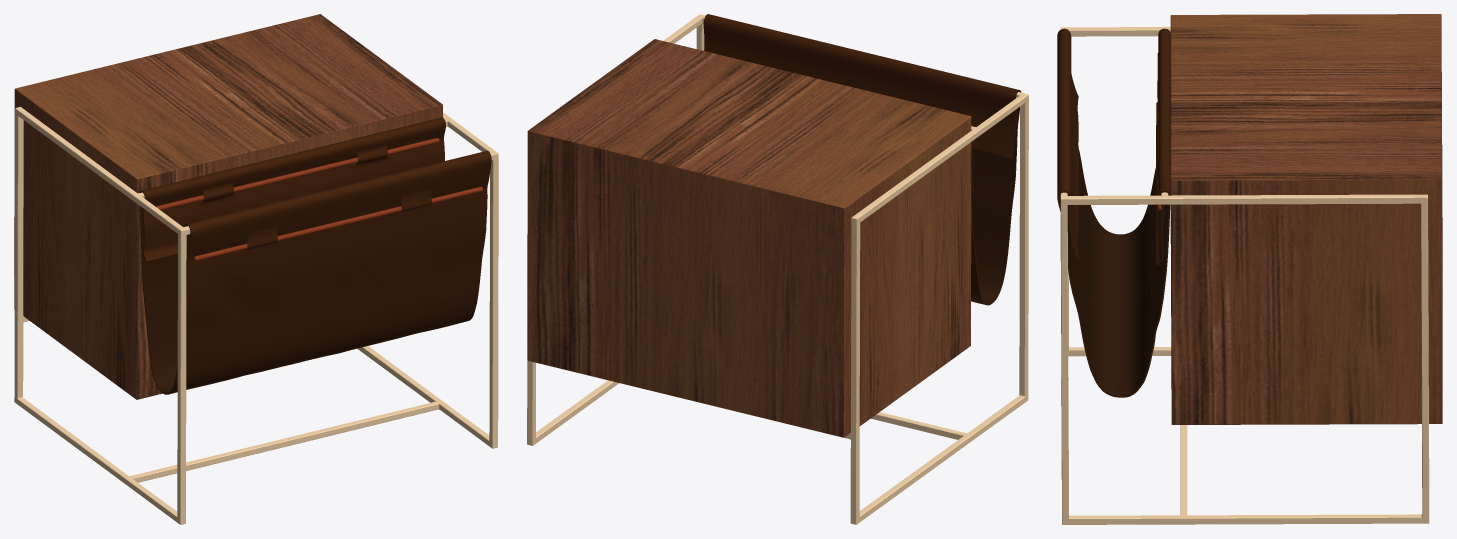
Rendered from Rvst.gltf.
The picture shows the model from 3 angles, left to right: view 1: azimuth 30°, elevation 25°; view 2: azimuth 150°, elevation 25°; view 3: azimuth 270°, elevation 25°; orthographic projection. The views are drawn at different scales.
Parts seen in each view (by area): view 1: WayDesign_Brick_mat(1)_WayDesign_Brick_mat1_mtl_4_0_0; view 2: WayDesign_Brick_mat(1)_WayDesign_Brick_mat1_mtl_4_0_0; view 3: WayDesign_Brick_mat(1)_WayDesign_Brick_mat1_mtl_4_0_0.
Boxes of the visible parts, x1,y1,x2,y2 form: WayDesign_Brick_mat(1)_WayDesign_Brick_mat1_mtl_4_0_0: (14, 14, 498, 524); WayDesign_Brick_mat(1)_WayDesign_Brick_mat1_mtl_4_0_0: (527, 14, 1028, 524); WayDesign_Brick_mat(1)_WayDesign_Brick_mat1_mtl_4_0_0: (1057, 14, 1442, 524).
Bounding box in the file's own units: 0.5605 × 0.5222 × 0.5318.
5 materials, 1 textured.
